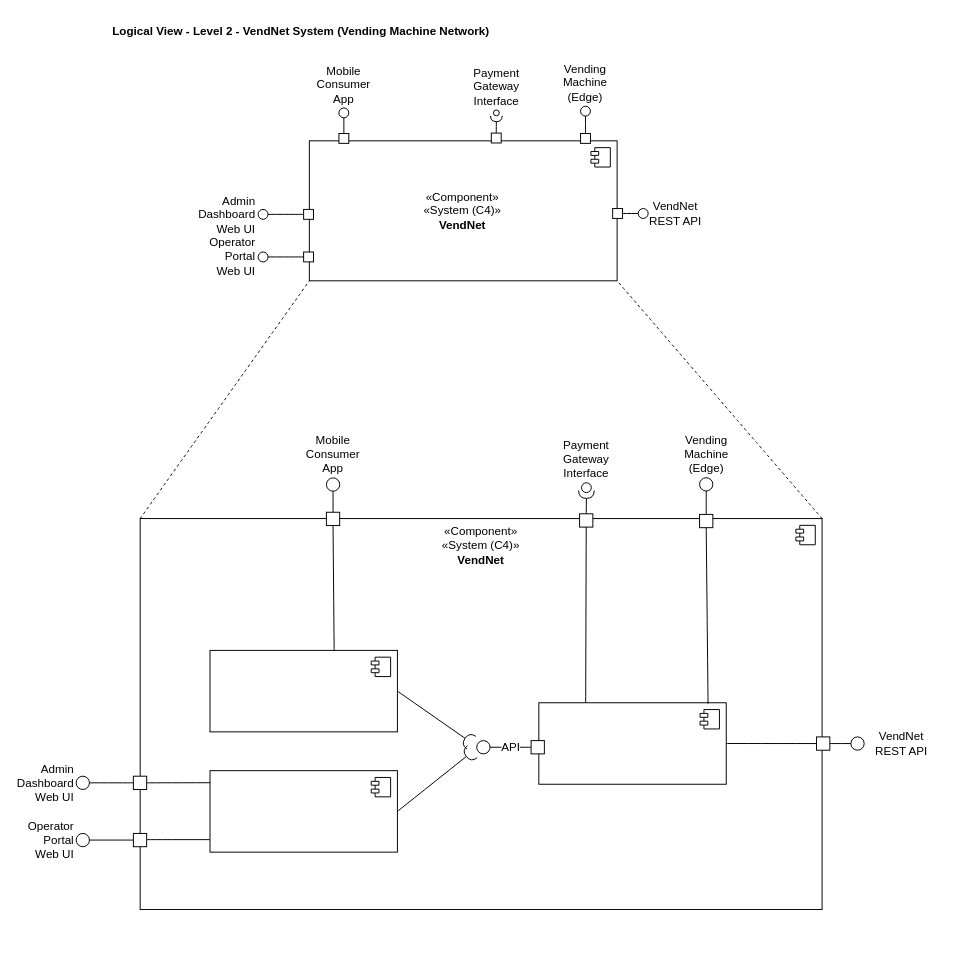
Some shapes in this 955 by 972 pixel diagram are drawn without their labels. The box of each missing label's shape, as (x1, y1, x2, y2) in pixels:
«component» «container (C4)» Mobile App: (209, 649, 397, 732)
«component» «container (C4)» VendNet Backend: (538, 702, 726, 784)
«component» «container (C4)» Web Portals App: (209, 770, 397, 852)
